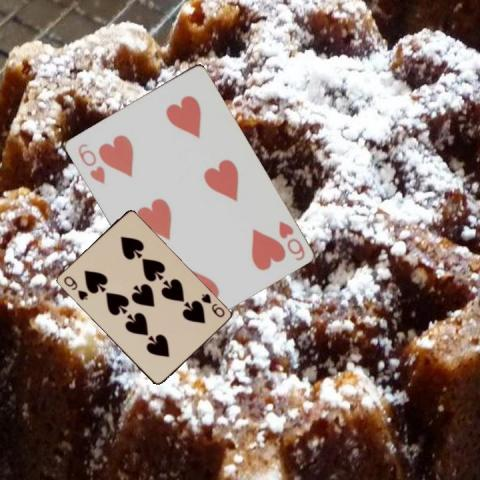6h: (74, 140, 107, 185), (275, 218, 306, 262)
9s: (60, 273, 89, 302), (198, 290, 226, 319)
